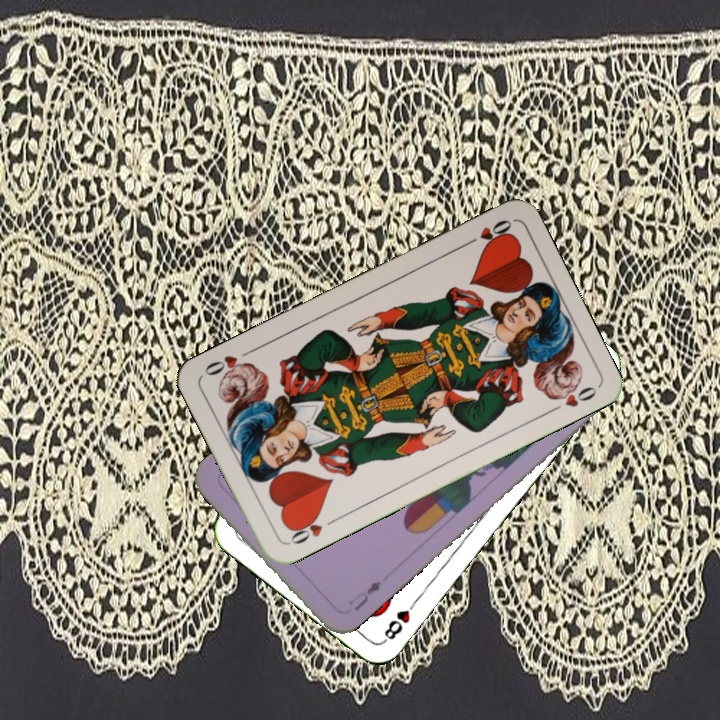EU: (344, 576, 385, 614)
H8: (379, 595, 421, 645)
HO: (284, 510, 339, 547), (459, 215, 515, 250)
